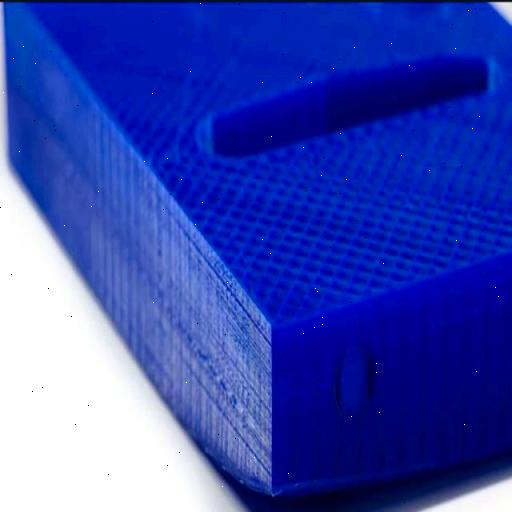cracks: (196, 447, 448, 512)
